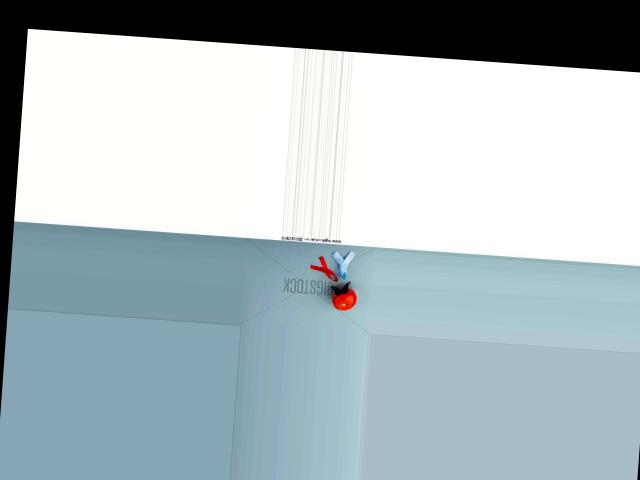tomato: (331, 286, 356, 311)
